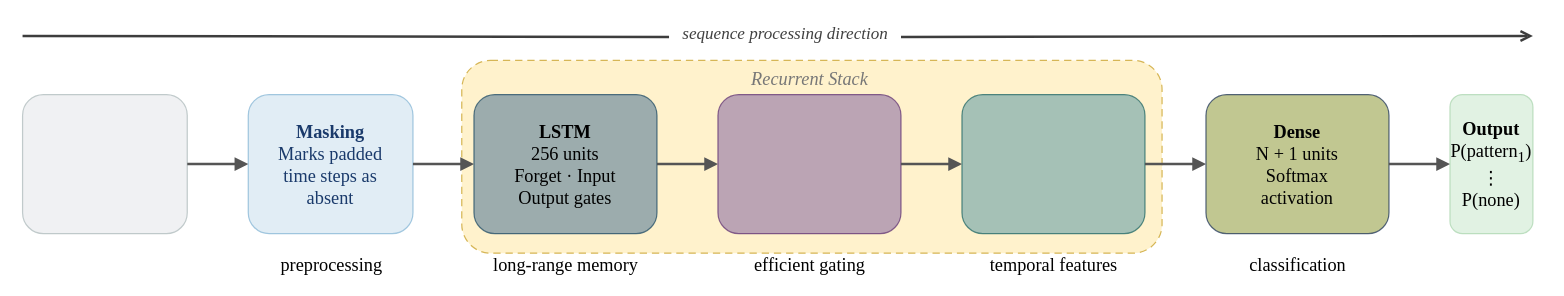
Image size: 1564x296. Some labels were removed from this diagram. Here are the shapes that lost their labels. From the top down, the centre of each, then its label:
[104,163]: Input Sequence MIDI: drum events OR Audio: MFCC frames Hop: 30 ms
[809,163]: GRU 128 units Update gate Reset gate
[1053,163]: SimpleRNN 256 units Single non-linear transform
